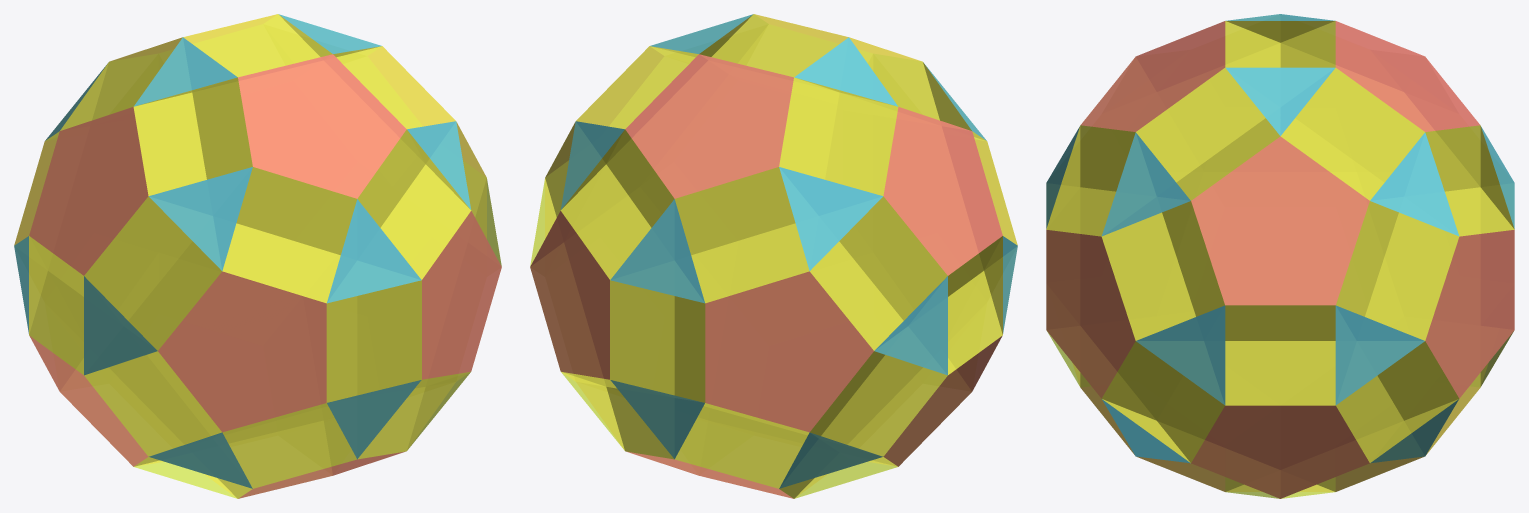
File: SmallDodecicosidodecahedron.obj
3 views of the same model, side by side, from view 1: azimuth 30°, elevation 25°; view 2: azimuth 150°, elevation 25°; view 3: azimuth 270°, elevation 25° (orthographic).
Bounding box in the file's own units: 4.24 × 4.24 × 4.24.
